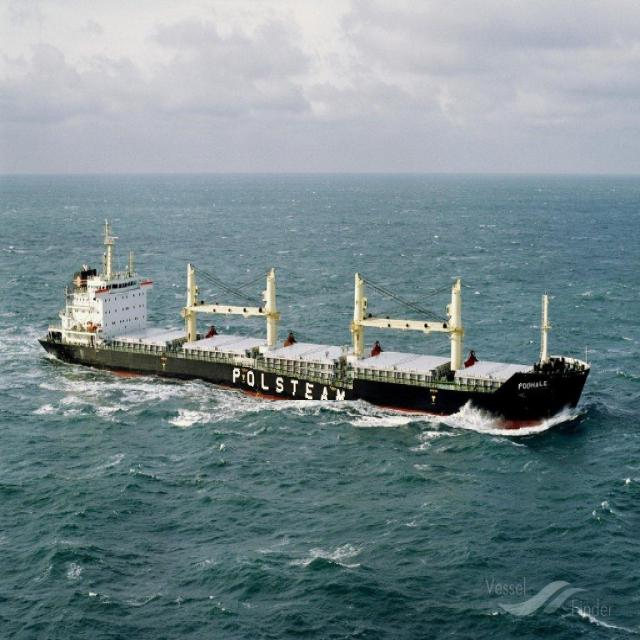OCR: (225, 360, 354, 400), (516, 376, 549, 397)
